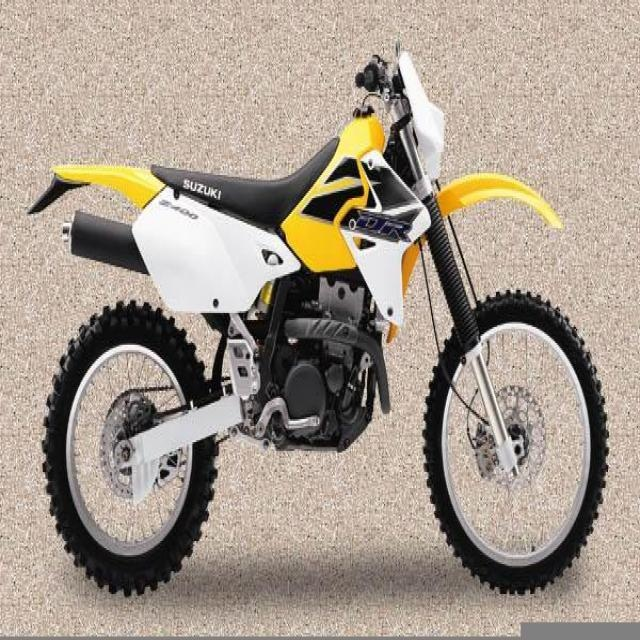Motorcycle: (25, 52, 609, 590)
